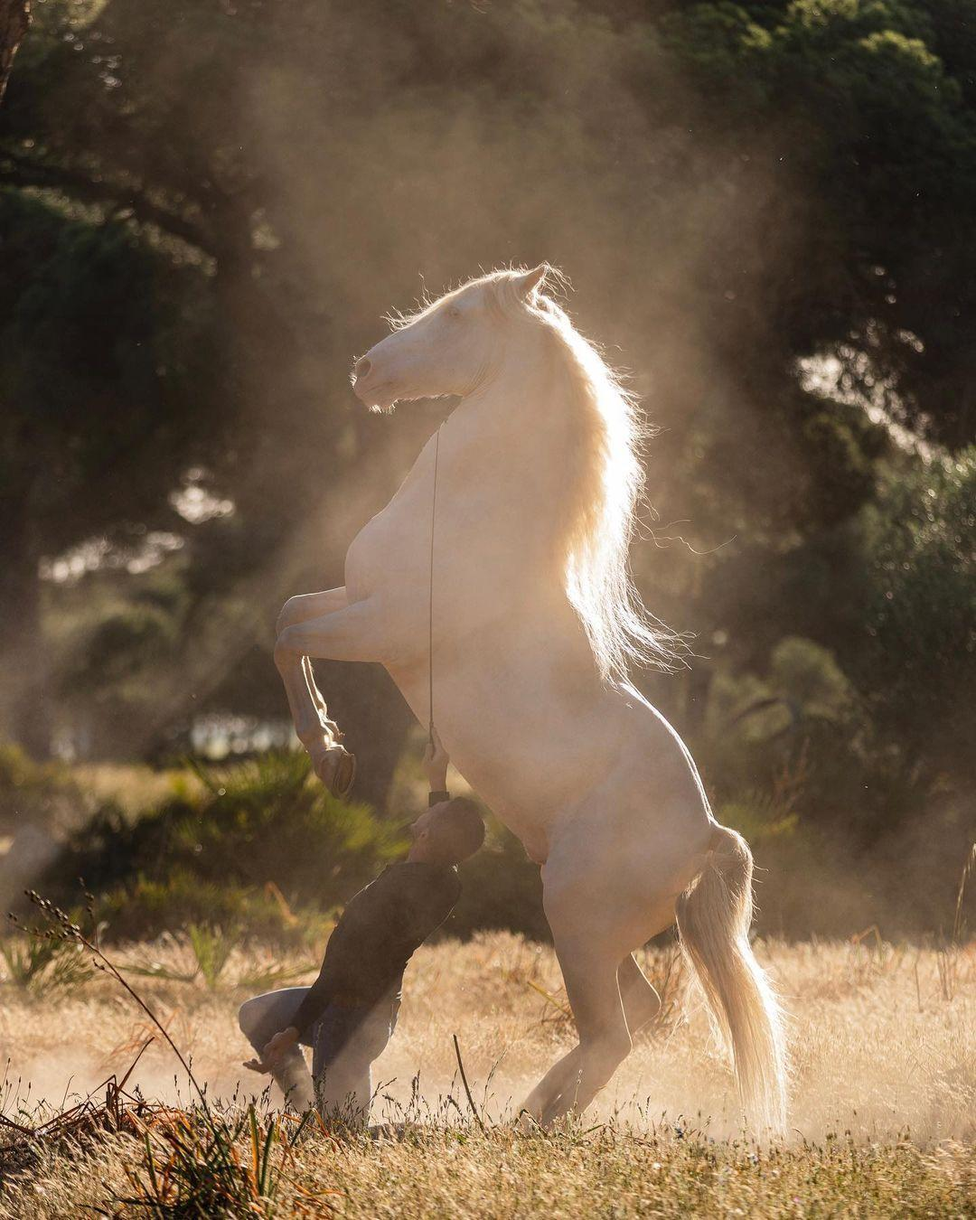horse: (271, 258, 793, 1150)
